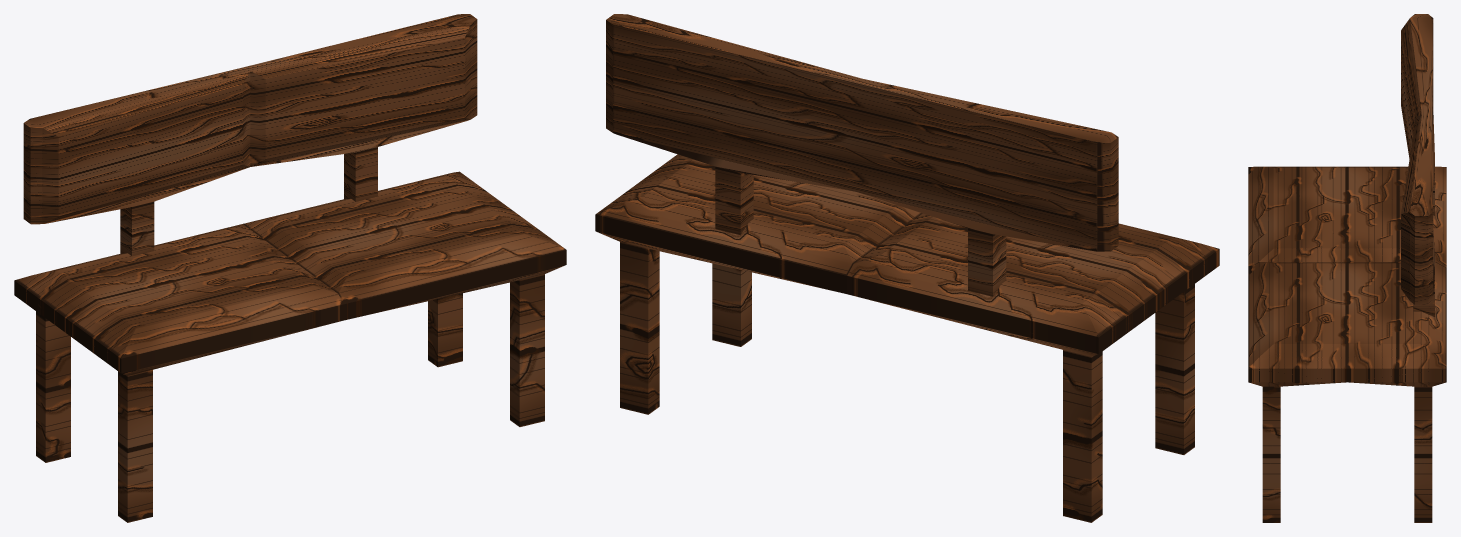
The model's file is model_Banco_01.fbx.
The picture shows the model from 3 angles, left to right: view 1: azimuth 30°, elevation 25°; view 2: azimuth 150°, elevation 25°; view 3: azimuth 270°, elevation 25°; orthographic projection. The views are drawn at different scales.
Parts seen in each view (by area): view 1: Cube; view 2: Cube; view 3: Cube.
Part boxes in pixels (x1,y1,x2,y2): Cube: (14, 14, 566, 522); Cube: (595, 14, 1219, 522); Cube: (1248, 14, 1446, 522).
Bounding box in the file's own units: 348 × 252 × 144.
